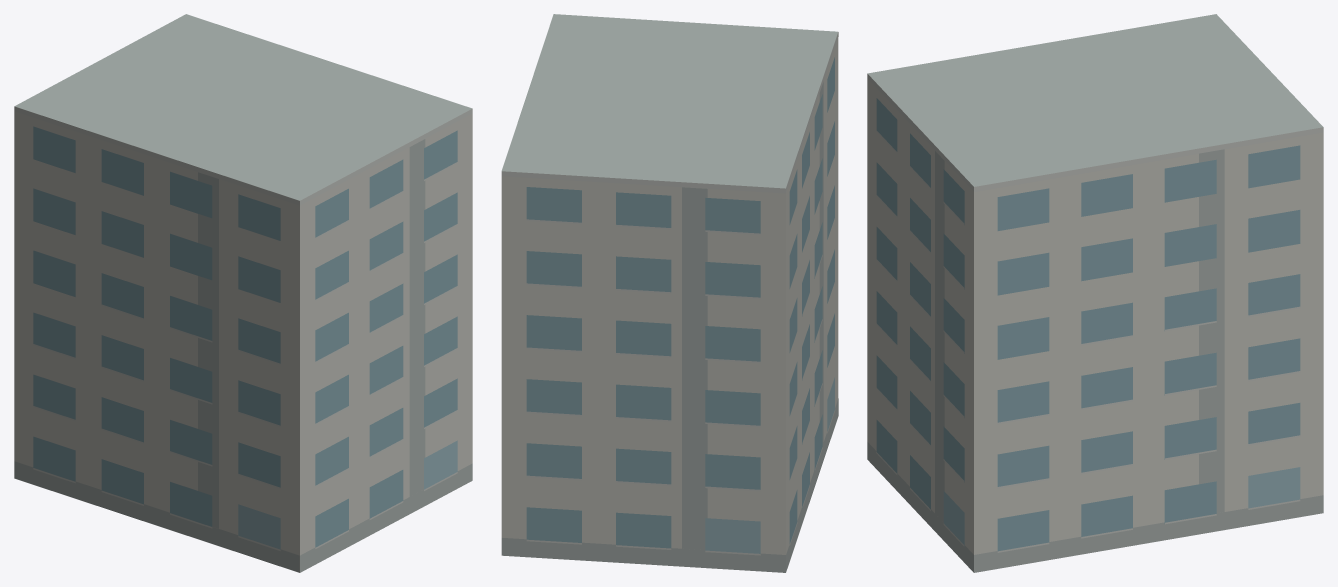
File: survey-upis-32848572.glb
The picture shows the model from 3 angles, left to right: view 1: azimuth 30°, elevation 25°; view 2: azimuth 150°, elevation 25°; view 3: azimuth 270°, elevation 25°; orthographic projection. The views are drawn at different scales.
Parts seen in each view (by area): view 1: survey-upis-32848572.tmp; view 2: survey-upis-32848572.tmp; view 3: survey-upis-32848572.tmp.
Part boxes in pixels (box(x1,y1,x2,y2)): survey-upis-32848572.tmp: box(14, 14, 472, 572); survey-upis-32848572.tmp: box(501, 14, 838, 572); survey-upis-32848572.tmp: box(867, 14, 1323, 572).
Size of the model in its own units: 17.59 by 18.3 by 19.61.
